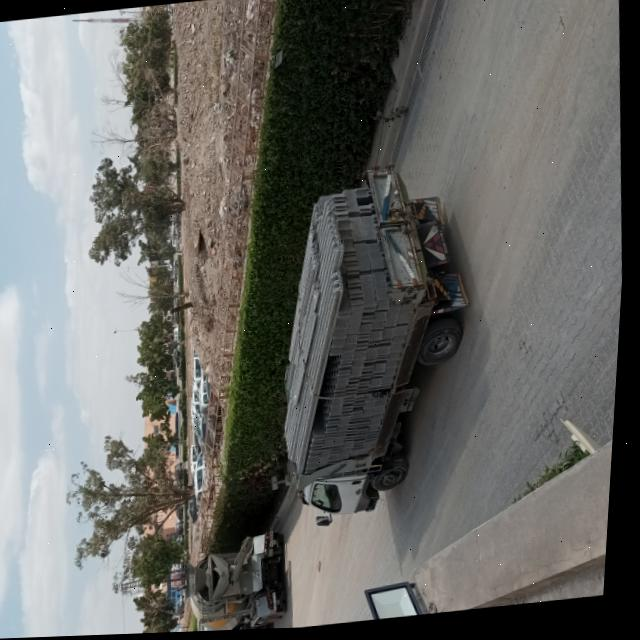bricks: (310, 187, 412, 466)
